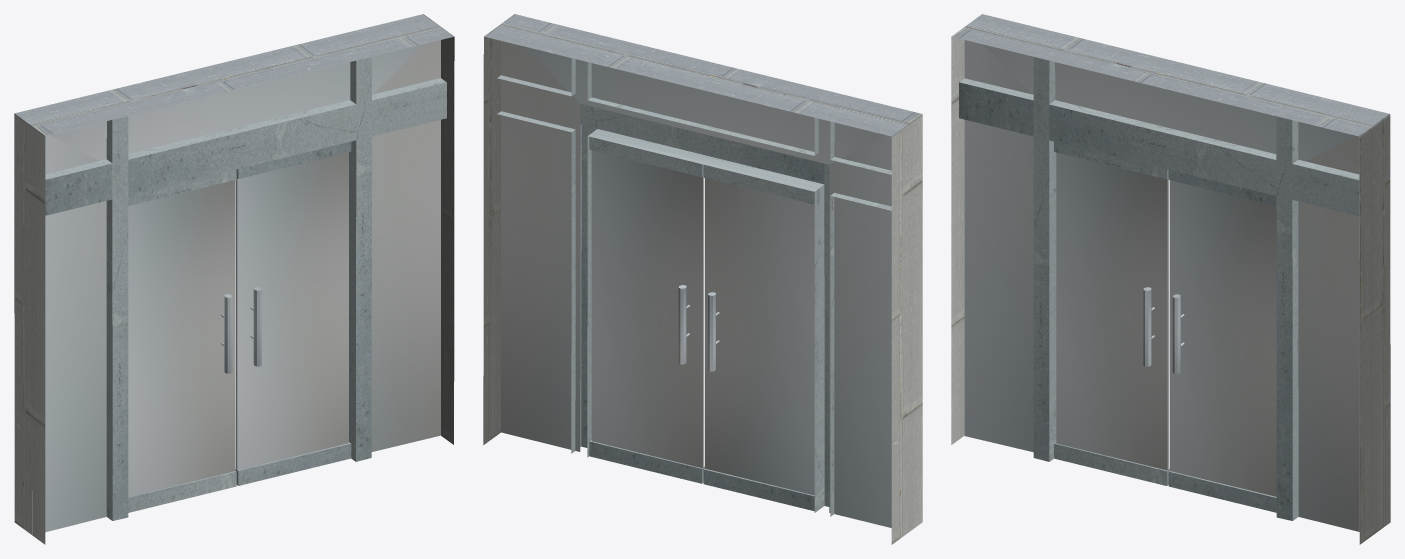
File: Door_002.fbx
3 views of the same model, side by side, from view 1: azimuth 30°, elevation 25°; view 2: azimuth 150°, elevation 25°; view 3: azimuth 330°, elevation 25° (orthographic).
Visible parts, largest first — view 1: Door_002; view 2: Door_002; view 3: Door_002.
Part boxes in pixels (x1,y1,x2,y2): Door_002: [14, 14, 454, 544]; Door_002: [483, 14, 922, 544]; Door_002: [951, 14, 1390, 544].
Size of the model in its own units: 240 by 230 by 31.9.
Materials: 1 (1 with a texture image).
